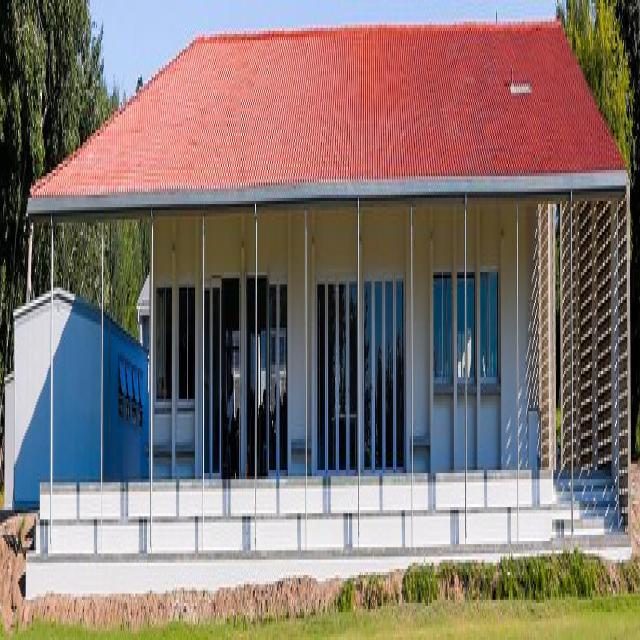door: (312, 266, 356, 474), (360, 265, 404, 470), (244, 275, 285, 467), (199, 276, 238, 474)
window: (478, 266, 498, 377), (433, 275, 452, 385), (178, 281, 194, 408), (457, 271, 475, 381), (155, 284, 171, 400)
